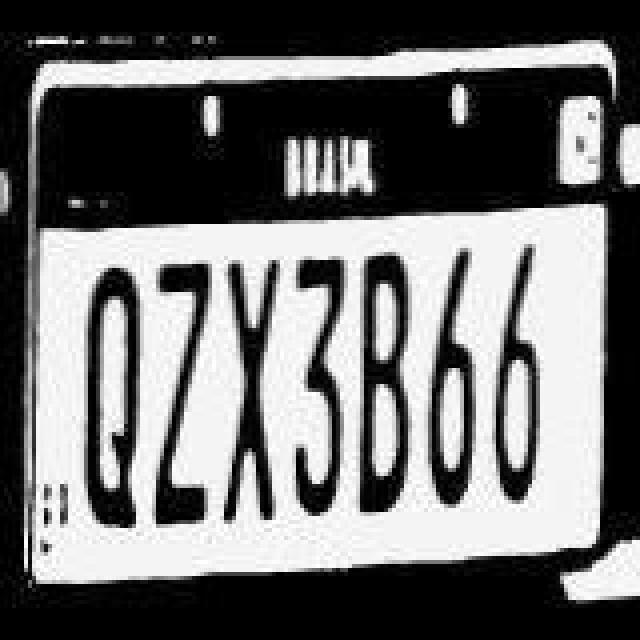3: (290, 254, 346, 522)
6: (486, 238, 542, 506), (422, 244, 478, 508)
B: (352, 250, 412, 518)
Q: (80, 268, 148, 532)
X: (218, 256, 282, 528)
Z: (152, 260, 212, 532)
